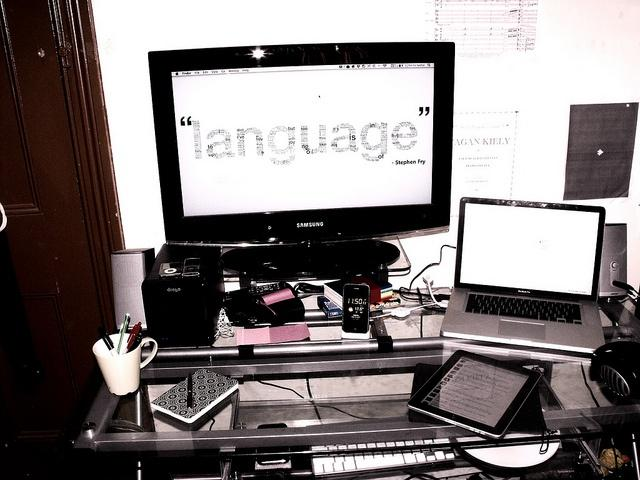AIO PC-Monitor-TV: (146, 39, 456, 247)
